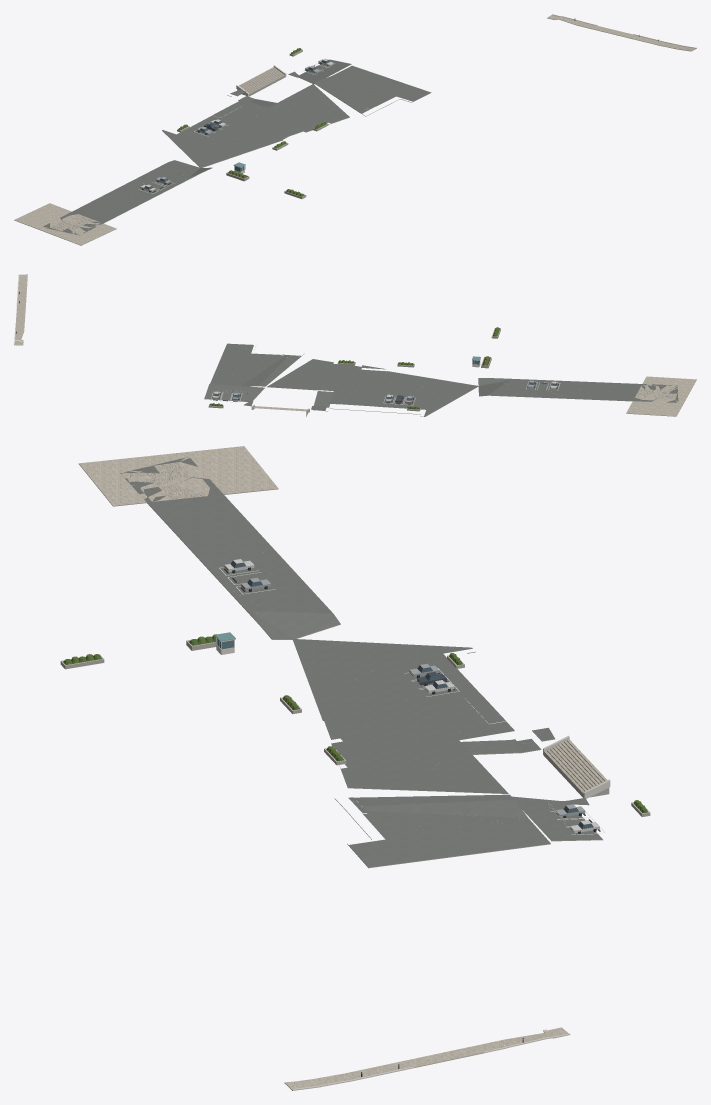
3 renders of one model, top to bottom at view 1: azimuth 30°, elevation 25°; view 2: azimuth 150°, elevation 25°; view 3: azimuth 270°, elevation 25°, orthographic. The views are drawn at different scales.
Visible parts, largest first — view 1: bau-asphalt, bau-graniteLight, vision-photo-main-stair__graniteRiser; view 2: bau-asphalt, bau-graniteLight, vision-photo-main-stair__graniteRiser; view 3: bau-asphalt, bau-graniteLight, vision-photo-main-stair__graniteRiser, vision-photo-main-stair__graniteWhite.
Part boxes in pixels (bbox=[...]): bau-asphalt: bbox=[43, 59, 430, 235]; bau-graniteLight: bbox=[14, 15, 696, 245]; vision-photo-main-stair__graniteRiser: bbox=[14, 18, 696, 245]; bau-asphalt: bbox=[204, 343, 678, 416]; bau-graniteLight: bbox=[14, 274, 696, 416]; vision-photo-main-stair__graniteRiser: bbox=[16, 328, 695, 416]; bau-asphalt: bbox=[120, 457, 602, 867]; bau-graniteLight: bbox=[79, 446, 607, 1089]; vision-photo-main-stair__graniteRiser: bbox=[60, 464, 650, 1090]; vision-photo-main-stair__graniteWhite: bbox=[215, 636, 610, 1090].
Size of the model in its own units: 216 by 5.32 by 85.44.
20 materials, 2 textured.
